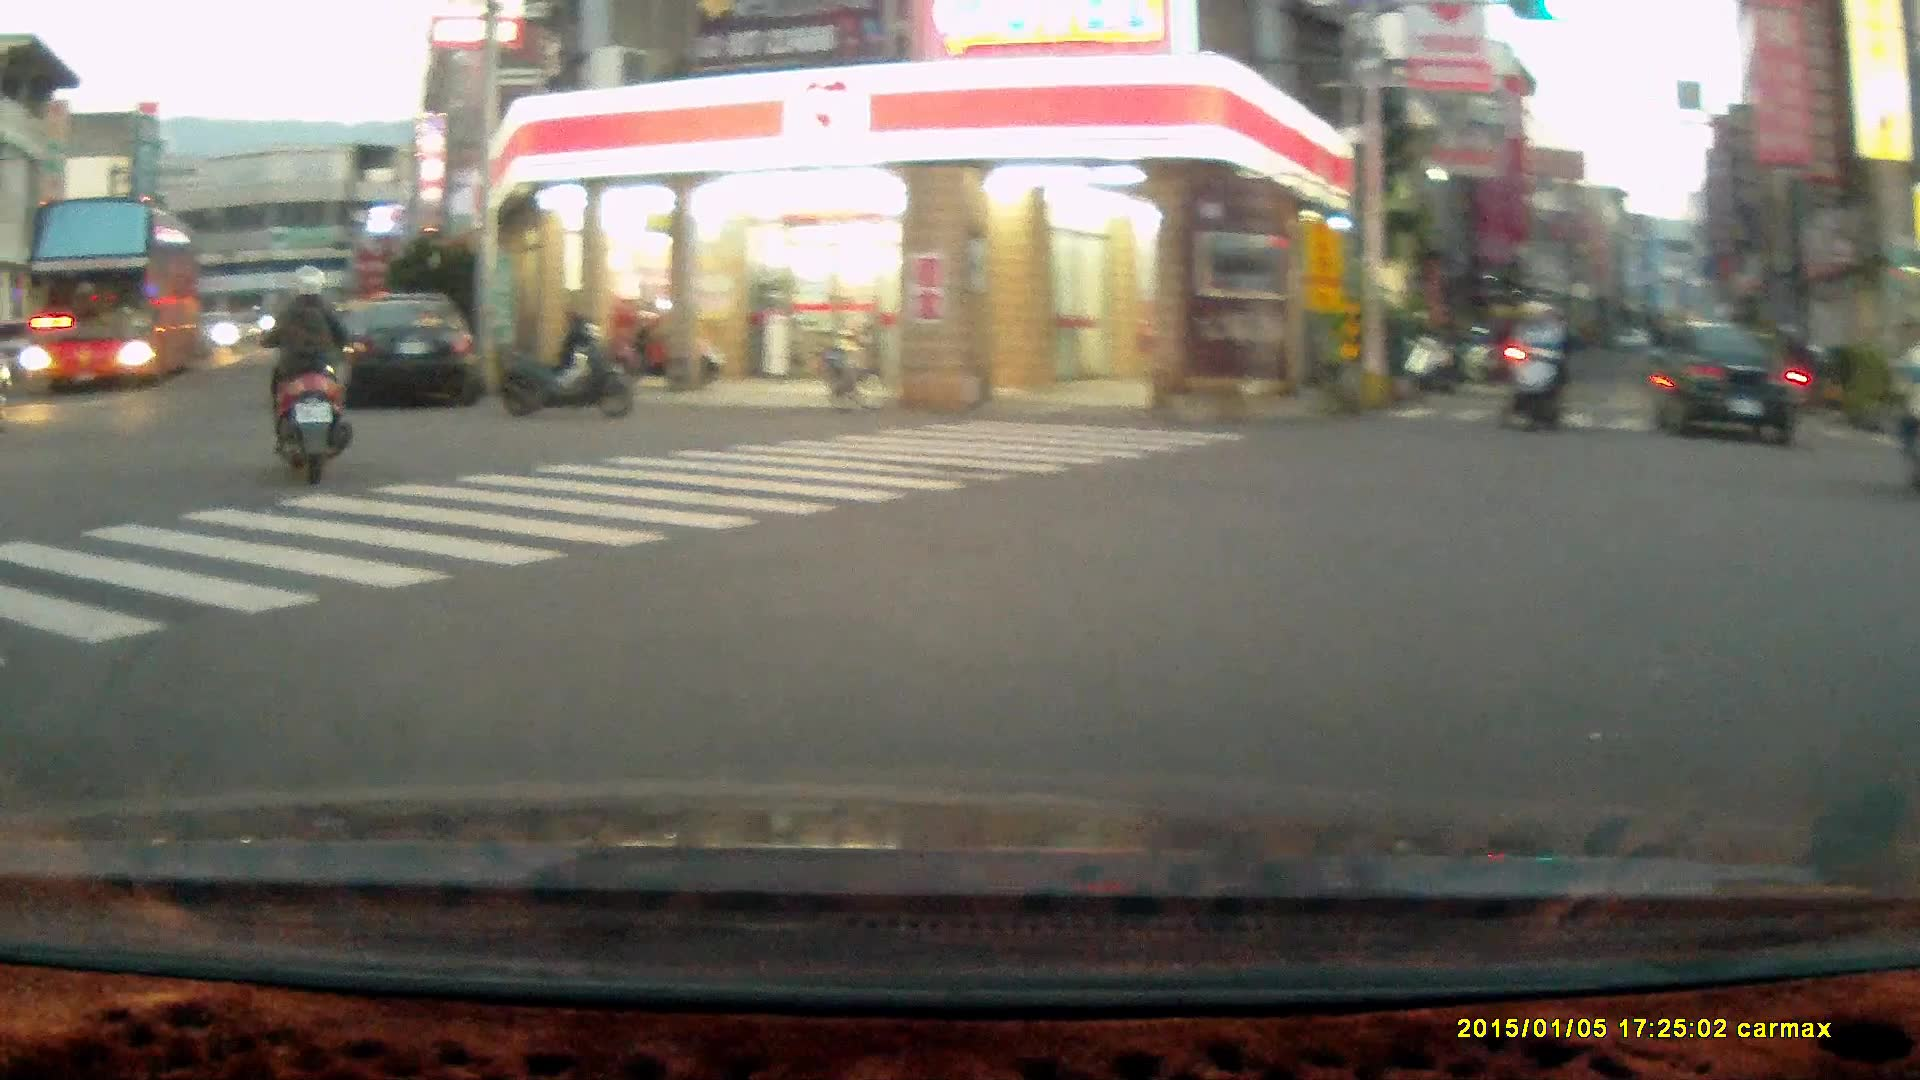rider: (256, 263, 354, 489), (1497, 296, 1567, 436)
vehicle: (20, 198, 200, 392), (1648, 317, 1809, 451), (340, 292, 485, 405)
